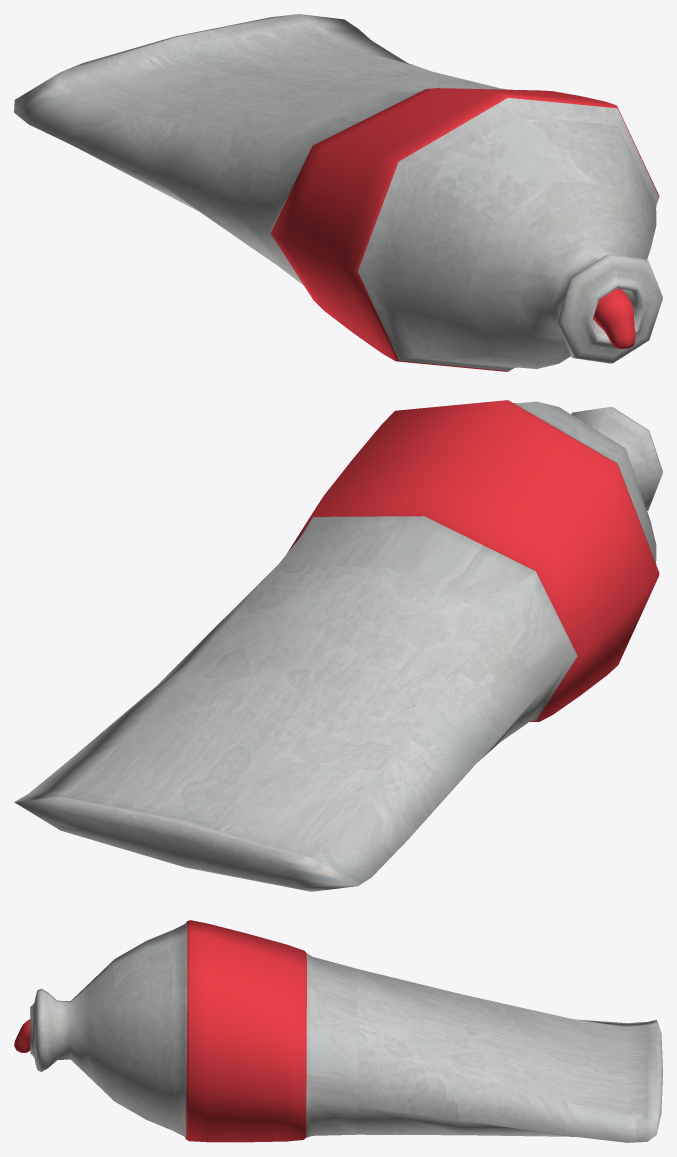
The model's file is color stick.fbx.
The picture shows the model from 3 angles, top to bottom: view 1: azimuth 30°, elevation 25°; view 2: azimuth 150°, elevation 25°; view 3: azimuth 270°, elevation 25°; orthographic projection. The views are drawn at different scales.
Visible parts, largest first — view 1: Cube; view 2: Cube; view 3: Cube.
Boxes of the visible parts, bbox=[...] form: Cube: bbox=[14, 14, 662, 371]; Cube: bbox=[14, 400, 662, 891]; Cube: bbox=[14, 920, 662, 1142].
Bounding box in the file's own units: 172 × 132 × 394.
